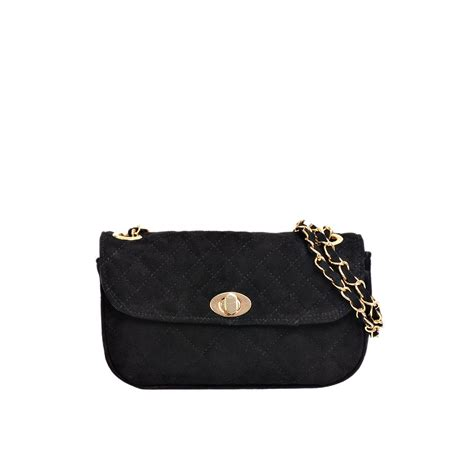gamuza: (98, 227, 372, 391)
